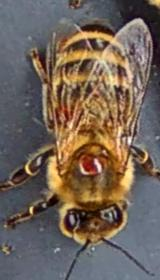varroa_mite: (70, 147, 112, 181)
